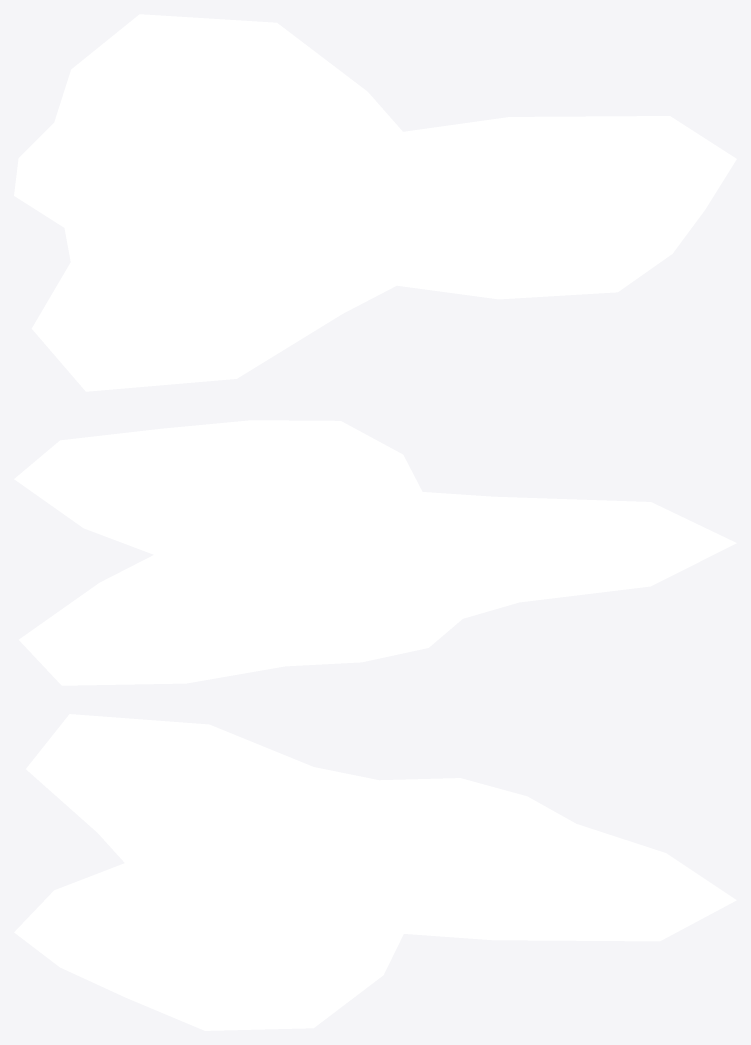
The model's file is prop_acid_puddle.glb.
3 renders of one model, top to bottom at view 1: azimuth 30°, elevation 25°; view 2: azimuth 150°, elevation 25°; view 3: azimuth 270°, elevation 25°, orthographic. The views are drawn at different scales.
Visible parts, largest first — view 1: AcidPuddle; view 2: AcidPuddle; view 3: AcidPuddle.
Part boxes in pixels (x1,y1,x2,y2): AcidPuddle: [14, 14, 736, 391]; AcidPuddle: [14, 420, 736, 685]; AcidPuddle: [14, 714, 736, 1030].
Size of the model in its own units: 2.81 by 6.02e-16 by 2.71.
